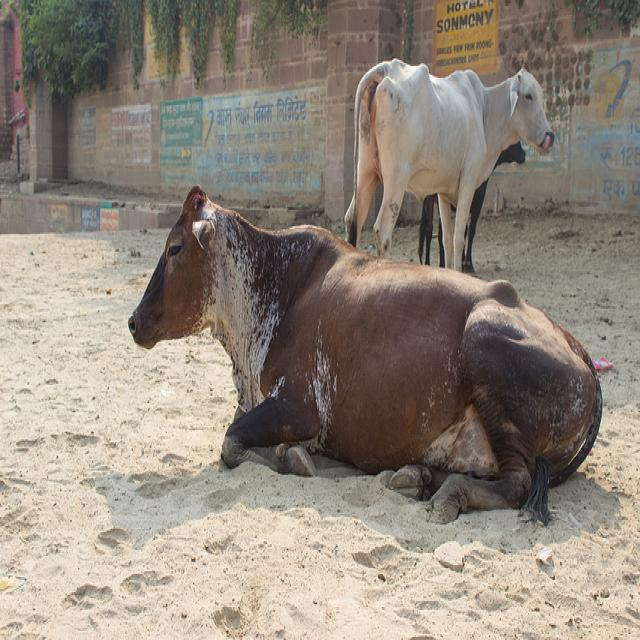cow: (127, 183, 602, 524), (342, 50, 553, 266), (415, 133, 525, 270)
